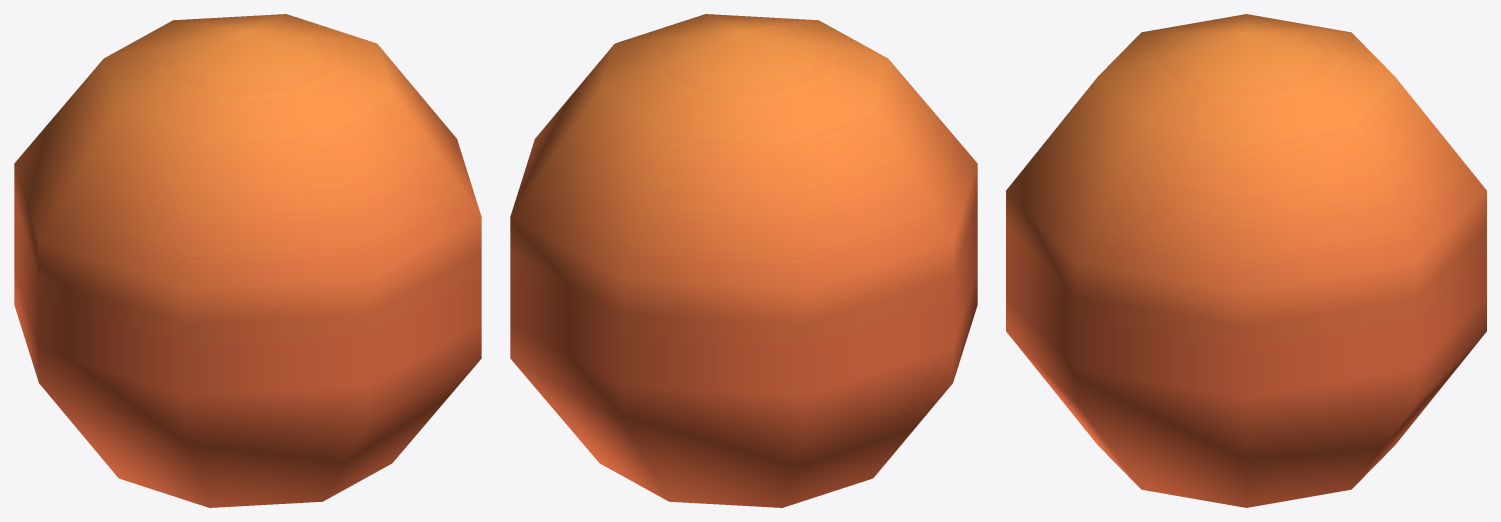
The model's file is ball.002_lev2.glb.
3 renders of one model, left to right at view 1: azimuth 30°, elevation 25°; view 2: azimuth 150°, elevation 25°; view 3: azimuth 270°, elevation 25°, orthographic.
Visible parts, largest first — view 1: ball.002_lev2; view 2: ball.002_lev2; view 3: ball.002_lev2.
Part boxes in pixels (<box>): ball.002_lev2: <box>14,14,481,507</box>; ball.002_lev2: <box>510,14,977,507</box>; ball.002_lev2: <box>1006,14,1486,507</box>.
Bounding box in the file's own units: 0.8025 × 0.8428 × 0.8054.
1 material, 1 textured.
